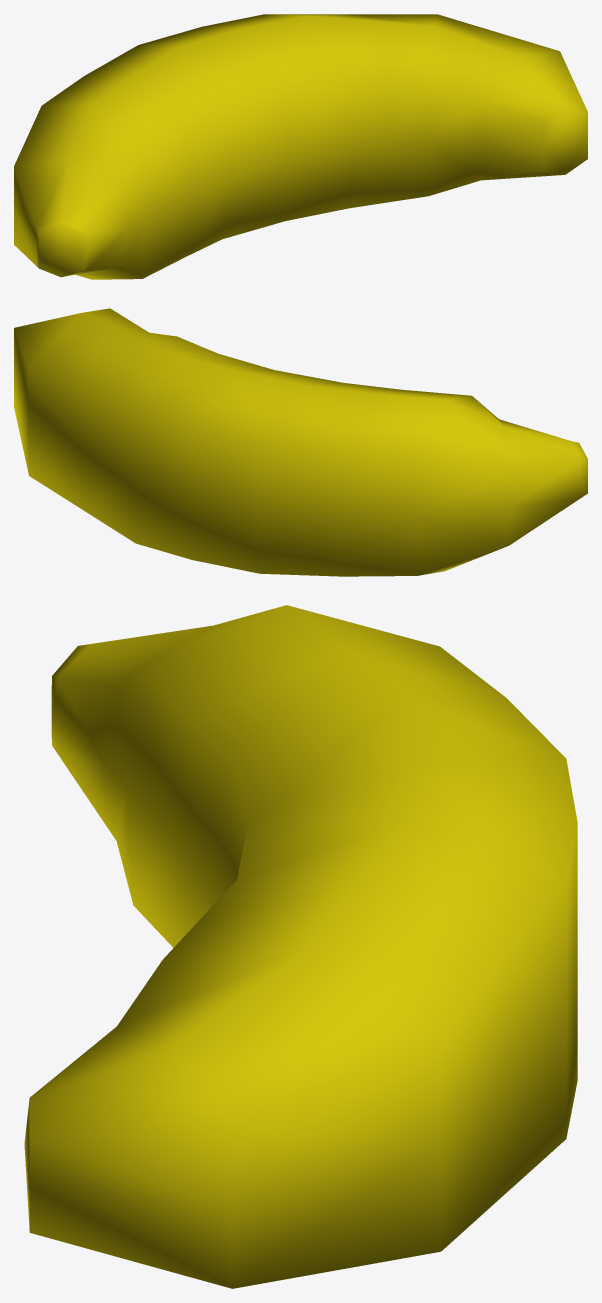
Rendered from banana.dae.
The picture shows the model from 3 angles, top to bottom: view 1: azimuth 30°, elevation 25°; view 2: azimuth 150°, elevation 25°; view 3: azimuth 270°, elevation 25°; orthographic projection. The views are drawn at different scales.
Visible parts, largest first — view 1: Cube_001; view 2: Cube_001; view 3: Cube_001.
Boxes of the visible parts, left/top/right/bottom form: Cube_001: left=14, top=14, right=587, bottom=279; Cube_001: left=14, top=308, right=587, bottom=576; Cube_001: left=24, top=605, right=577, bottom=1288.
Size of the model in its own units: 0.1748 by 0.0773 by 0.0576.
